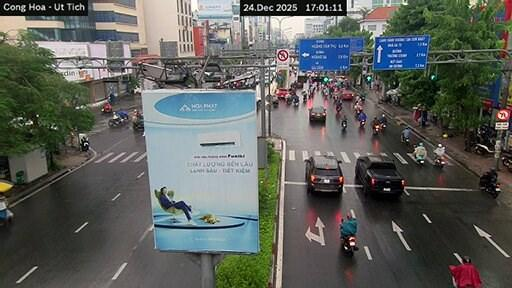motorbike: (0, 195, 13, 226), (341, 236, 356, 256), (480, 183, 500, 197), (475, 141, 494, 154), (108, 116, 127, 127), (132, 114, 144, 131), (501, 151, 511, 167), (434, 155, 446, 167), (413, 153, 424, 165), (80, 137, 89, 151), (101, 102, 112, 113), (132, 121, 143, 130), (416, 155, 424, 165), (401, 135, 409, 145), (293, 97, 300, 107), (373, 125, 380, 135), (341, 120, 346, 131), (360, 93, 366, 102), (335, 103, 341, 112), (380, 123, 386, 131), (286, 97, 292, 104), (359, 120, 365, 127), (308, 90, 313, 97), (303, 94, 306, 102)
